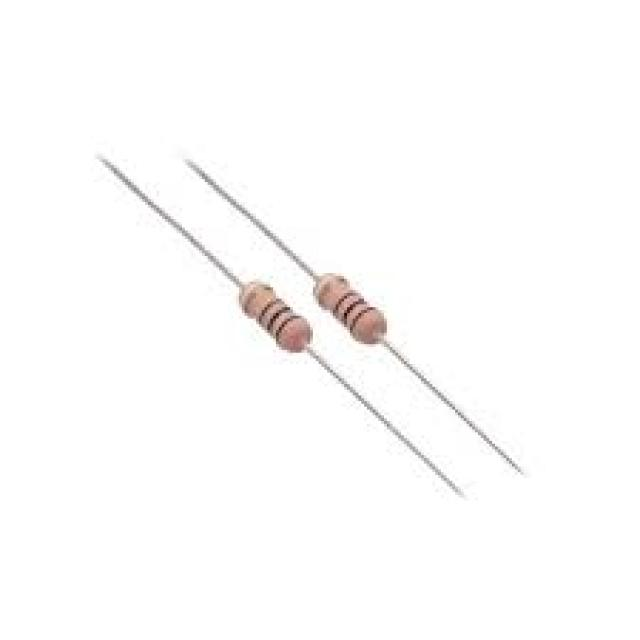Resistor: (237, 280, 312, 352), (313, 273, 387, 344)
